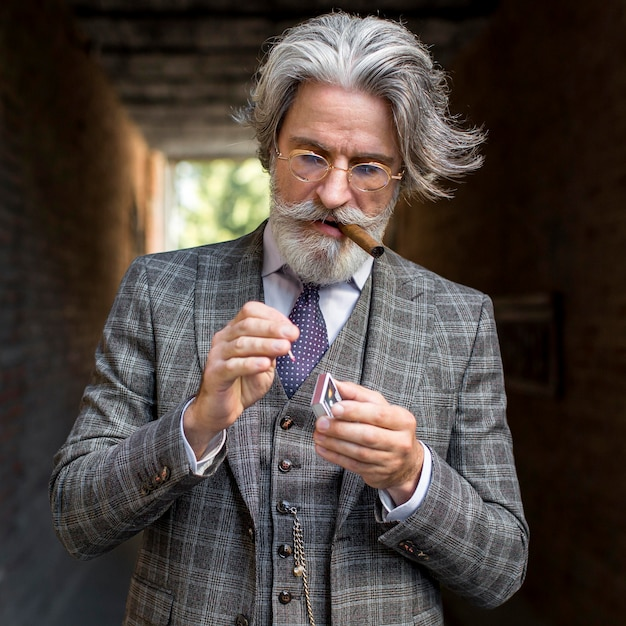cigarette: (330, 219, 386, 259)
